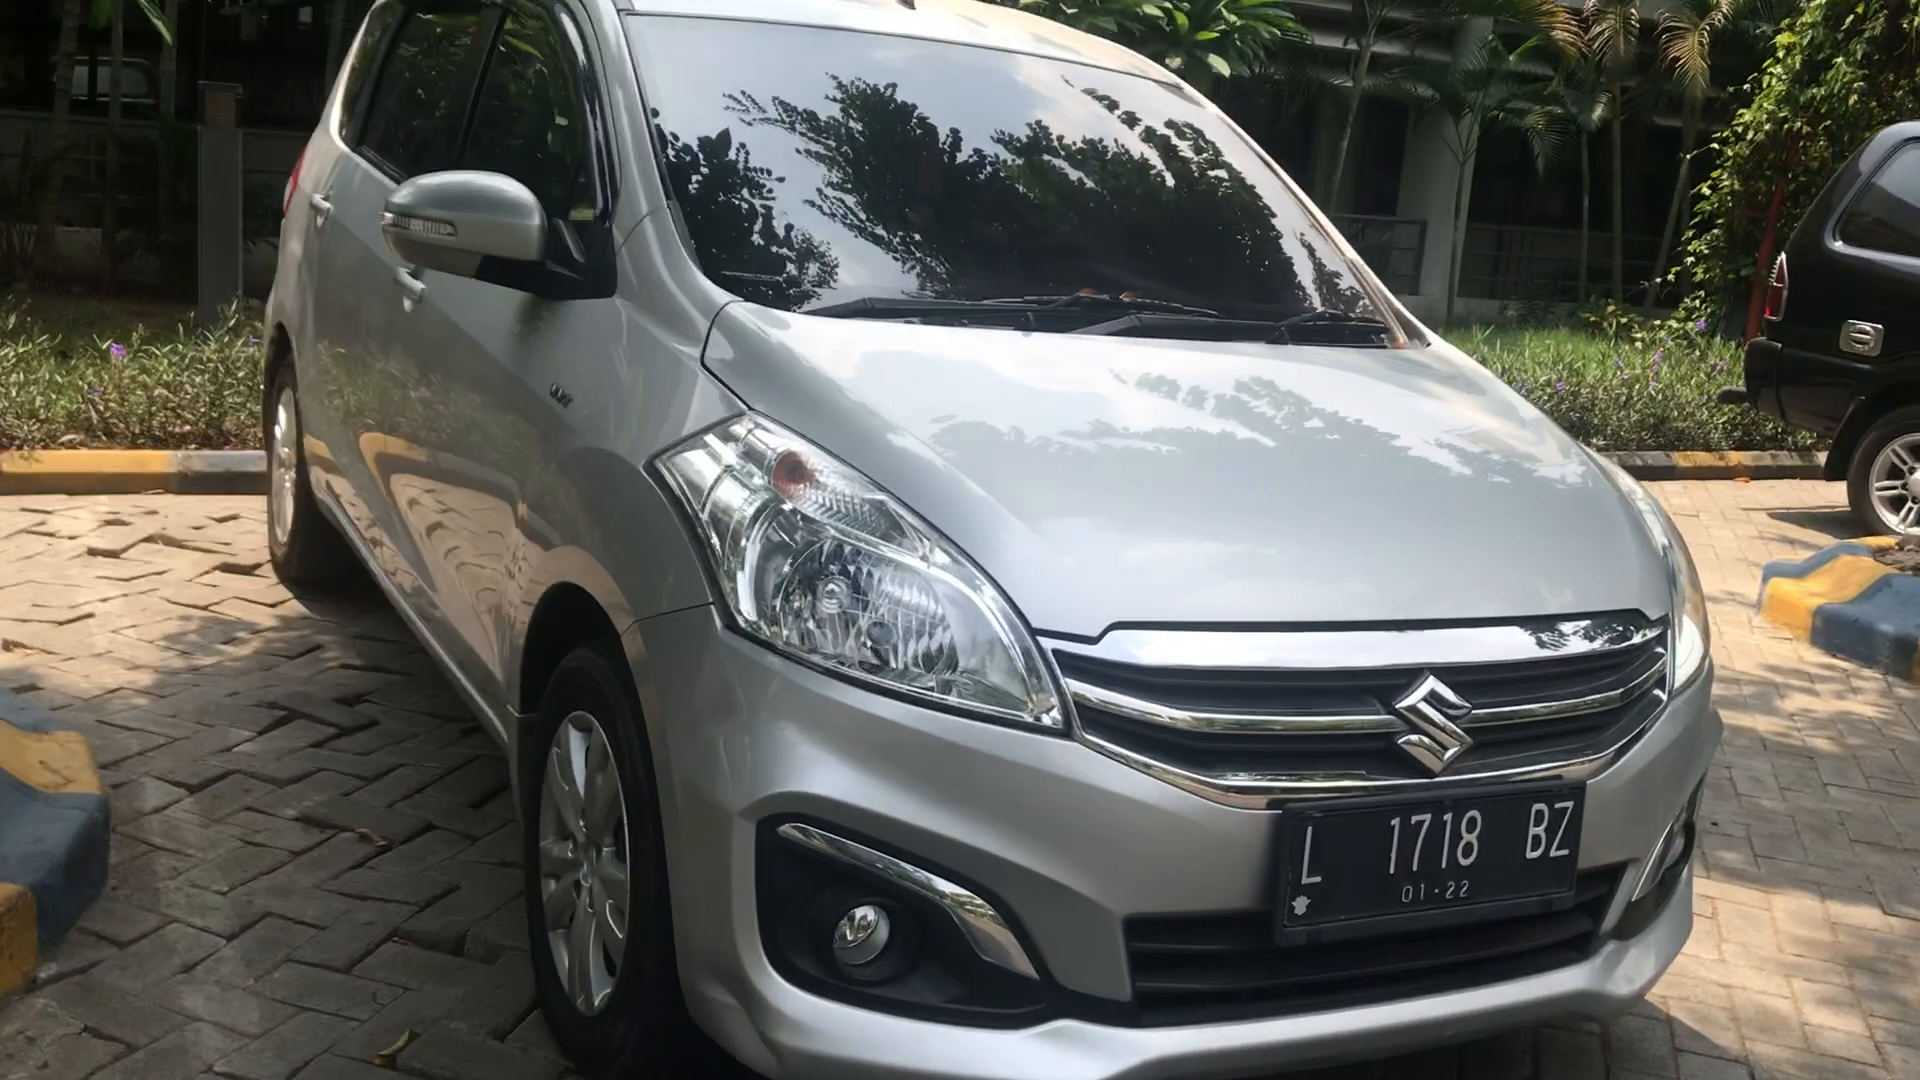plate: (1277, 797, 1585, 910)
